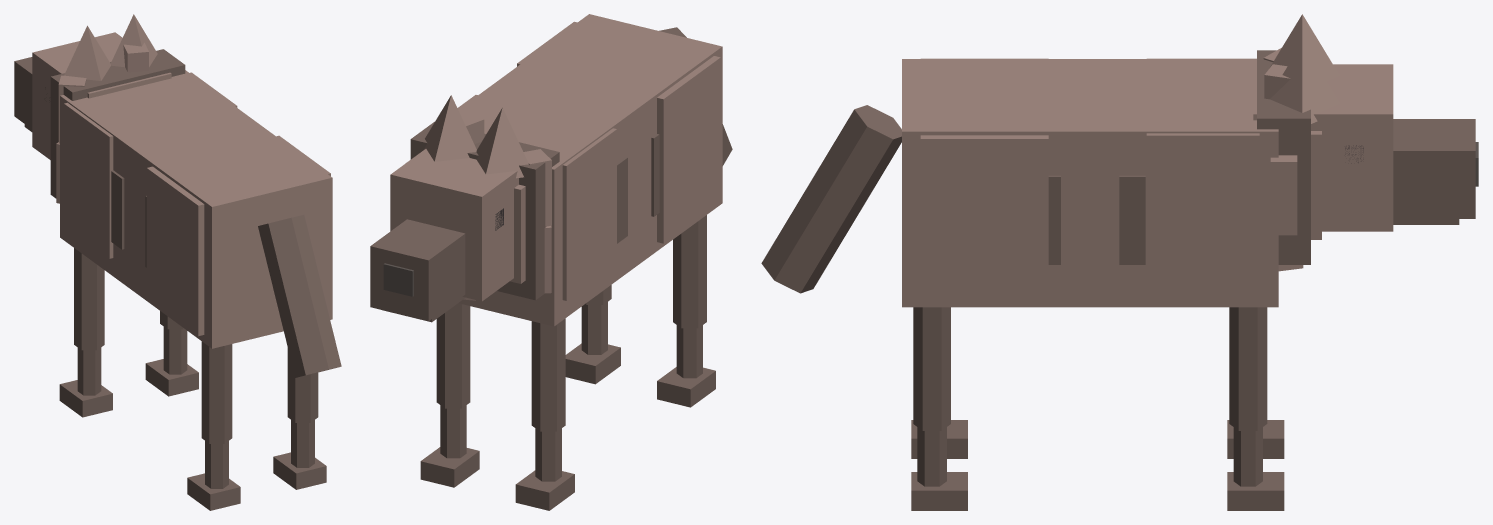
The model's file is wolf.glb.
3 views of the same model, side by side, from view 1: azimuth 30°, elevation 25°; view 2: azimuth 150°, elevation 25°; view 3: azimuth 270°, elevation 25° (orthographic). The views are drawn at different scales.
Visible parts, largest first — view 1: wolf; view 2: wolf; view 3: wolf.
Part boxes in pixels (bbox=[...]): wolf: bbox=[14, 14, 341, 510]; wolf: bbox=[370, 14, 732, 510]; wolf: bbox=[761, 14, 1478, 510].
Size of the model in its own units: 0.356 by 0.918 by 1.33.
